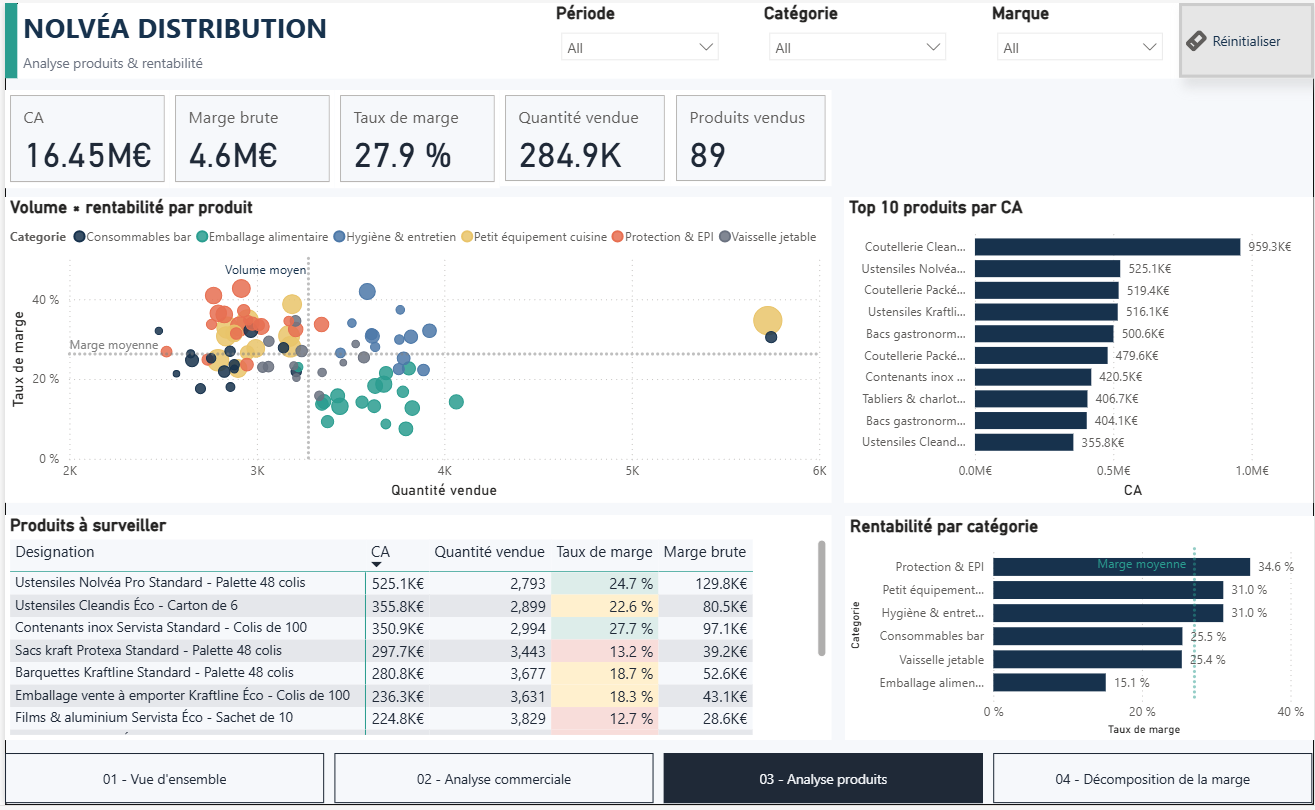

This screenshot's page, from the dashboard's own definition file:
{"tool":"powerbi","page":{"name":"03 - Analyse produits","canvas":[1280,784],"ordinal":3},"visuals":[{"type":"textbox","box":[12.3,0,1267.7,47],"z":0},{"type":"textbox","box":[12.3,45,1267.7,28.6],"z":1000},{"type":"shape","box":[0,0,12.3,73.6],"z":2000},{"type":"slicer","title":"Période","fields":{"Values":["Dim_Date.AnneeMois"]},"box":[533.6,0,174.2,73.3],"z":3000},{"type":"cardVisual","fields":{"Data":["_Mesures.CA"]},"box":[0,85.2,161.2,95.8],"z":3000,"group":"g1"},{"type":"slicer","title":"Catégorie","fields":{"Values":["Dim_Produit.Categorie"]},"box":[736.9,0,193.1,73.3],"z":4000},{"type":"cardVisual","fields":{"Data":["_Mesures.Marge brute"]},"box":[161.2,85.2,161.2,95.8],"z":4000,"group":"g1"},{"type":"slicer","title":"Marque","fields":{"Values":["Dim_Produit.Marque"]},"box":[959.8,0,181.5,73.3],"z":5000},{"type":"cardVisual","fields":{"Data":["_Mesures.Taux de marge"]},"box":[322.4,85.2,161.2,95.8],"z":5000,"group":"g1"},{"type":"actionButton","box":[1147.9,0,132.1,73.3],"z":6000},{"type":"cardVisual","fields":{"Data":["_Mesures.Quantité vendue"]},"box":[483.8,85.2,166.8,94.3],"z":6000,"group":"g1"},{"type":"group","id":"g1","title":"Groupe 1","box":[0,85.2,807.4,95.8],"z":7000},{"type":"cardVisual","fields":{"Data":["_Mesures.Nb produits vendus"]},"box":[650.6,85.2,156.7,94.4],"z":7000,"group":"g1"},{"type":"scatterChart","title":"Volume × rentabilité par produit","fields":{"Category":["Dim_Produit.Designation"],"Series":["Dim_Produit.Categorie"],"Size":["_Mesures.CA"],"X":["_Mesures.Quantité vendue"],"Y":["_Mesures.Taux de marge"]},"box":[0,190.1,807.9,298.9],"z":8000},{"type":"clusteredBarChart","title":"Top 10 produits par CA","fields":{"Category":["Dim_Produit.Designation"],"Y":["_Mesures.CA"]},"box":[820.6,190.1,459.4,298.9],"z":9000},{"type":"pivotTable","title":"Produits à surveiller","fields":{"Rows":["Dim_Produit.Designation"],"Values":["_Mesures.CA","_Mesures.Quantité vendue","_Mesures.Taux de marge","_Mesures.Marge brute"]},"box":[0,500.6,807.9,219.7],"z":9001},{"type":"clusteredBarChart","title":"Rentabilité par catégorie","fields":{"Category":["Dim_Produit.Categorie"],"Y":["_Mesures.Taux de marge"]},"box":[821,501,459,219],"z":9002},{"type":"pageNavigator","box":[0,732.9,1280,49.6],"z":9003}]}

Visuals, with their boxes in screenshot pixels (x1, y1, x2, y2), scaled from the page's 1280x784 canvas onto the 1315x810 screenshot:
textbox: region(13, 0, 1314, 49)
textbox: region(13, 46, 1314, 76)
shape: region(0, 0, 13, 76)
"Période" slicer: region(548, 0, 727, 76)
cardVisual - _Mesures.CA: region(0, 88, 166, 187)
"Catégorie" slicer: region(757, 0, 955, 76)
cardVisual - _Mesures.Marge brute: region(166, 88, 331, 187)
"Marque" slicer: region(986, 0, 1173, 76)
cardVisual - _Mesures.Taux de marge: region(331, 88, 497, 187)
actionButton: region(1179, 0, 1314, 76)
cardVisual - _Mesures.Quantité vendue: region(497, 88, 668, 185)
"Groupe 1" group: region(0, 88, 829, 187)
cardVisual - _Mesures.Nb produits vendus: region(668, 88, 829, 186)
"Volume × rentabilité par produit" scatterChart: region(0, 196, 830, 505)
"Top 10 produits par CA" clusteredBarChart: region(843, 196, 1314, 505)
"Produits à surveiller" pivotTable: region(0, 517, 830, 744)
"Rentabilité par catégorie" clusteredBarChart: region(843, 518, 1314, 744)
pageNavigator: region(0, 757, 1314, 808)
